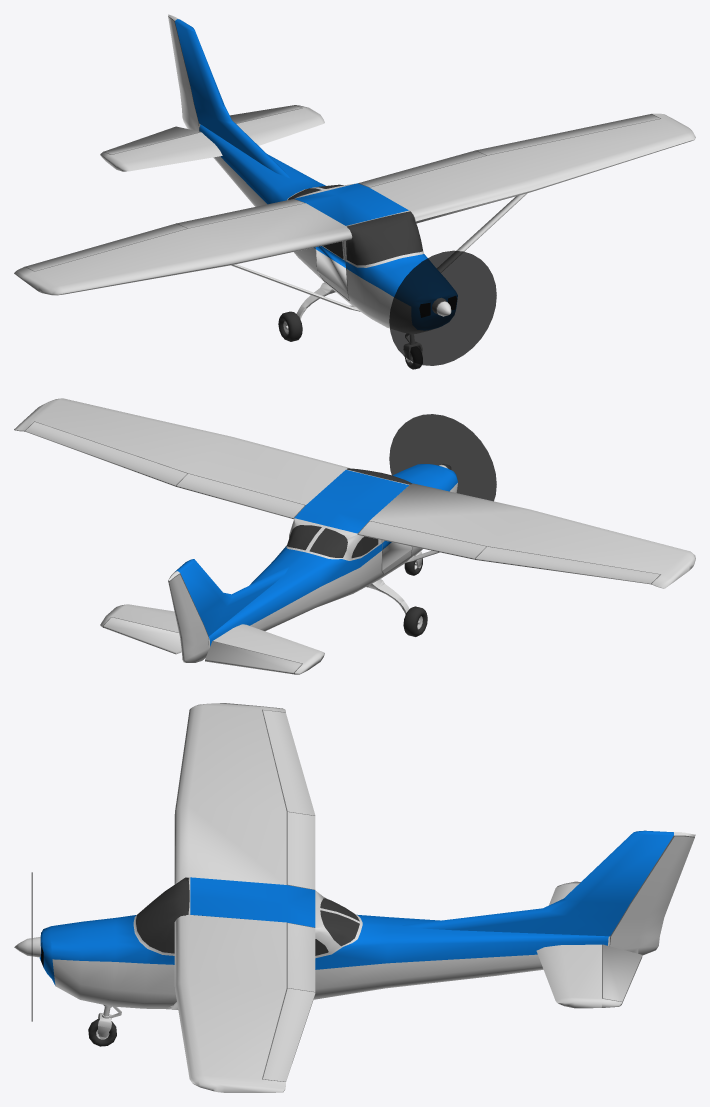
Rendered from Cessna_002.fbx.
The picture shows the model from 3 angles, top to bottom: view 1: azimuth 30°, elevation 25°; view 2: azimuth 150°, elevation 25°; view 3: azimuth 270°, elevation 25°; orthographic projection. The views are drawn at different scales.
Visible parts, largest first — view 1: Empty_Mesh, Cylinder; view 2: Empty_Mesh, Cylinder; view 3: Empty_Mesh.
Boxes of the visible parts, left/top/right/bottom form: Empty_Mesh: left=14, top=14, right=695, bottom=369; Cylinder: left=389, top=250, right=496, bottom=365; Empty_Mesh: left=14, top=398, right=695, bottom=674; Cylinder: left=389, top=414, right=496, bottom=501; Empty_Mesh: left=14, top=703, right=695, bottom=1092.
Bounding box in the file's own units: 1543 × 402 × 1159.
